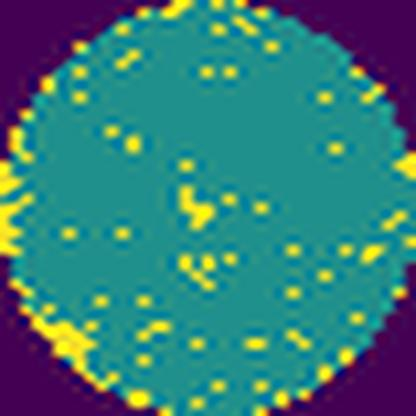Edge-Loc: (18, 298, 112, 400), (0, 148, 22, 261)
